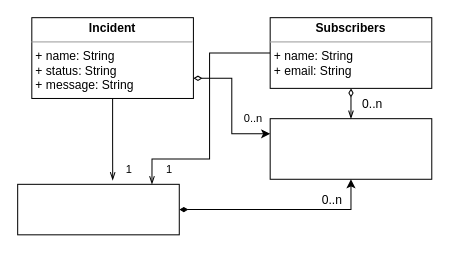
This 449x253 diagram has some shape labels left out. Each missing label, with the box of its shape:
Component + name: String + description: String: (269, 118, 432, 179)
Organization + name: String: (17, 183, 179, 235)
